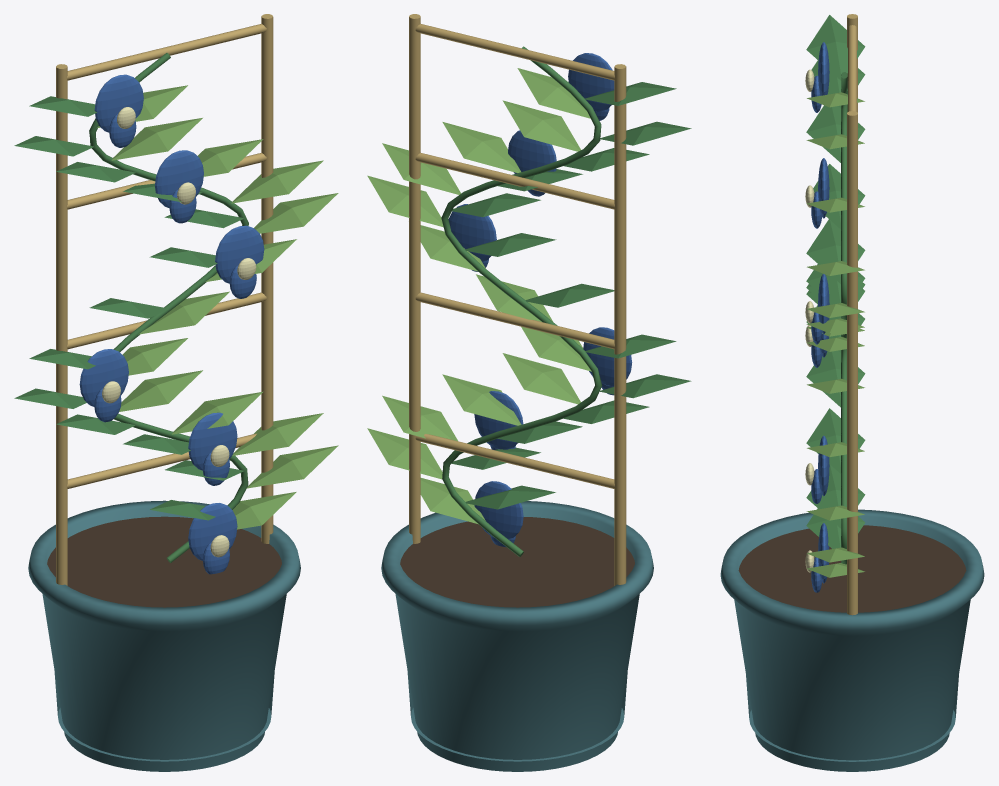
3 views of the same model, side by side, from view 1: azimuth 30°, elevation 25°; view 2: azimuth 150°, elevation 25°; view 3: azimuth 270°, elevation 25° (orthographic). The views are drawn at different scales.
Visible parts, largest first — view 1: Pot, Leaves, Trellis, Flowers, Vine; view 2: Pot, Leaves, Trellis, Flowers, Vine; view 3: Pot, Leaves, Trellis, Flowers, Vine.
Part boxes in pixels (x1,y1,x2,y2): Pot: (28,500,300,771); Leaves: (14,85,338,529); Trellis: (56,14,273,585); Flowers: (79,74,264,574); Vine: (89,53,248,562); Pot: (381,501,653,771); Leaves: (367,68,691,524); Trellis: (409,14,626,585); Flowers: (448,53,632,547); Vine: (441,46,602,556); Pot: (720,509,984,771); Leaves: (806,15,865,577); Trellis: (847,14,857,615); Flowers: (805,42,829,592); Vine: (841,72,847,564).
Bounding box in the file's own units: 0.3162 × 0.64 × 0.23.
